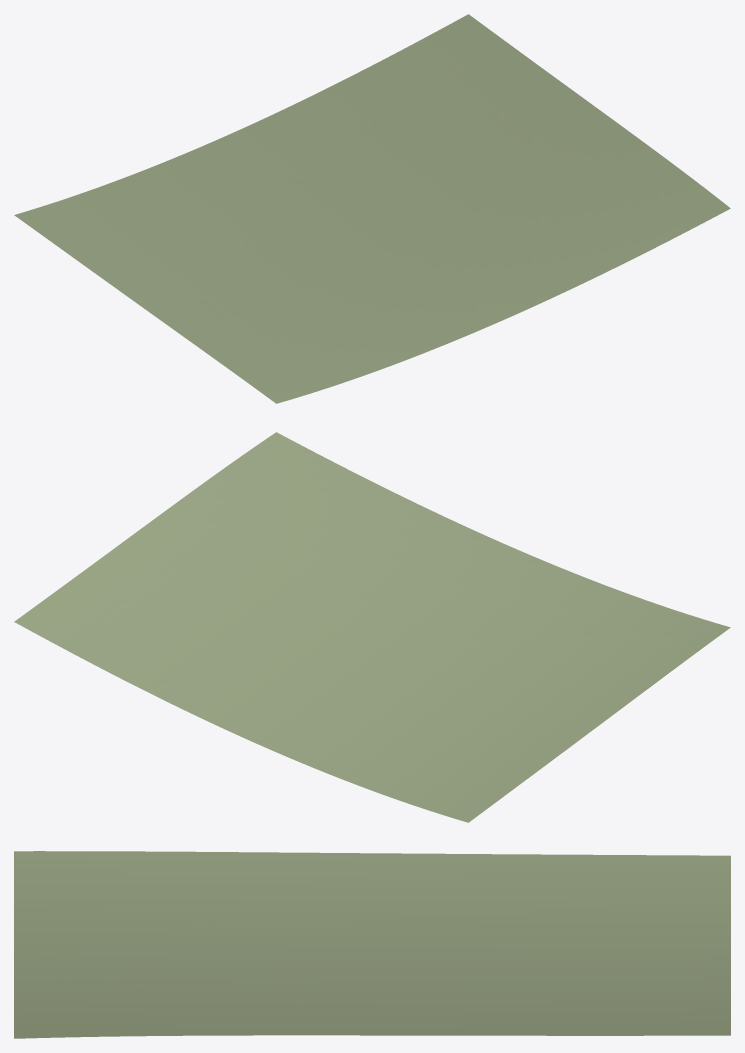
Rendered from desert-22-3.glb.
The picture shows the model from 3 angles, top to bottom: view 1: azimuth 30°, elevation 25°; view 2: azimuth 150°, elevation 25°; view 3: azimuth 270°, elevation 25°; orthographic projection. The views are drawn at different scales.
Parts seen in each view (by area): view 1: desert-22-3; view 2: desert-22-3; view 3: desert-22-3.
Part boxes in pixels (x1,y1,x2,y2): desert-22-3: (14,14,730,403); desert-22-3: (14,432,730,822); desert-22-3: (14,851,730,1038).
Bounding box in the file's own units: 512 × 97.13 × 512.
